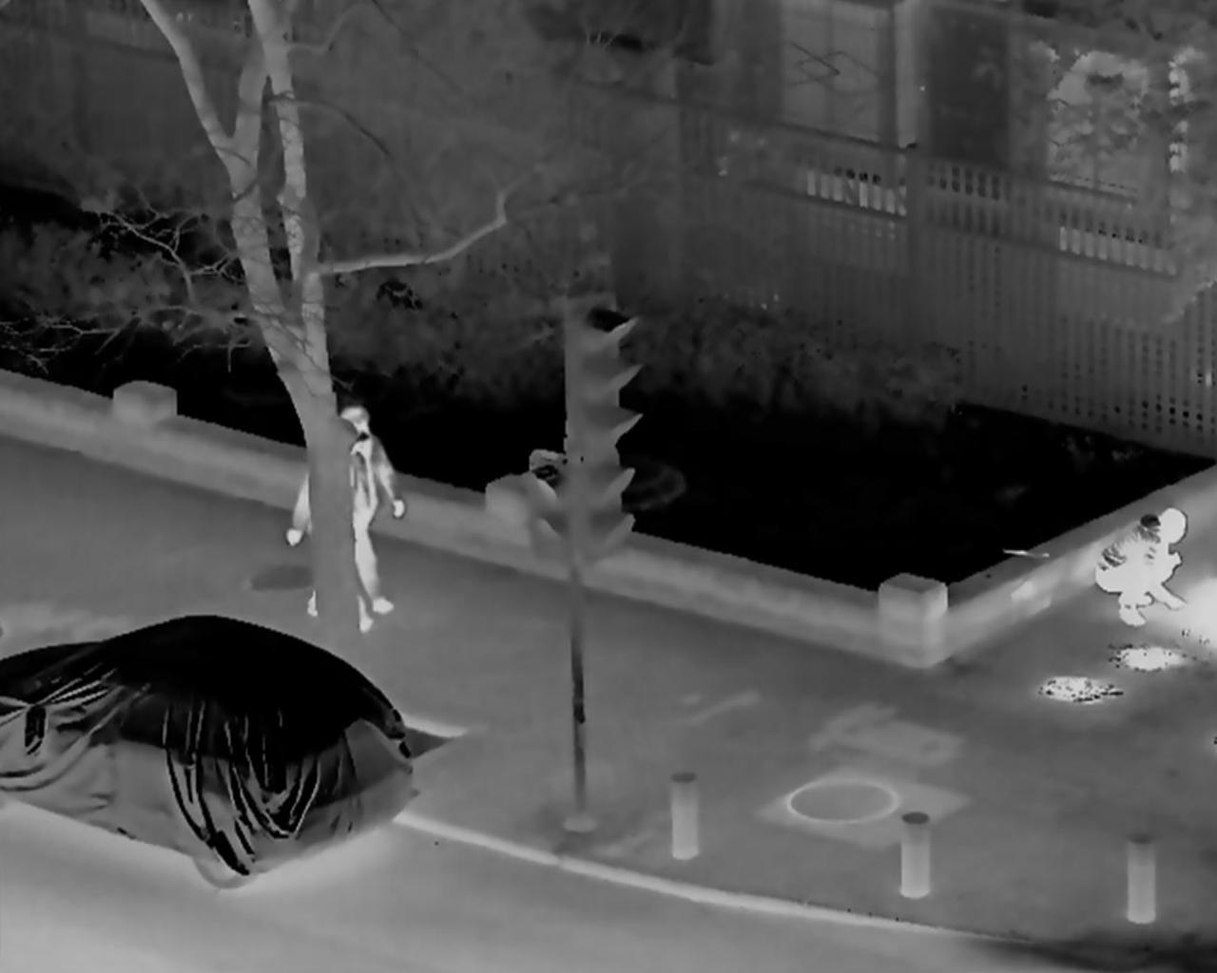person: (319, 404, 410, 615), (1087, 508, 1191, 633)
